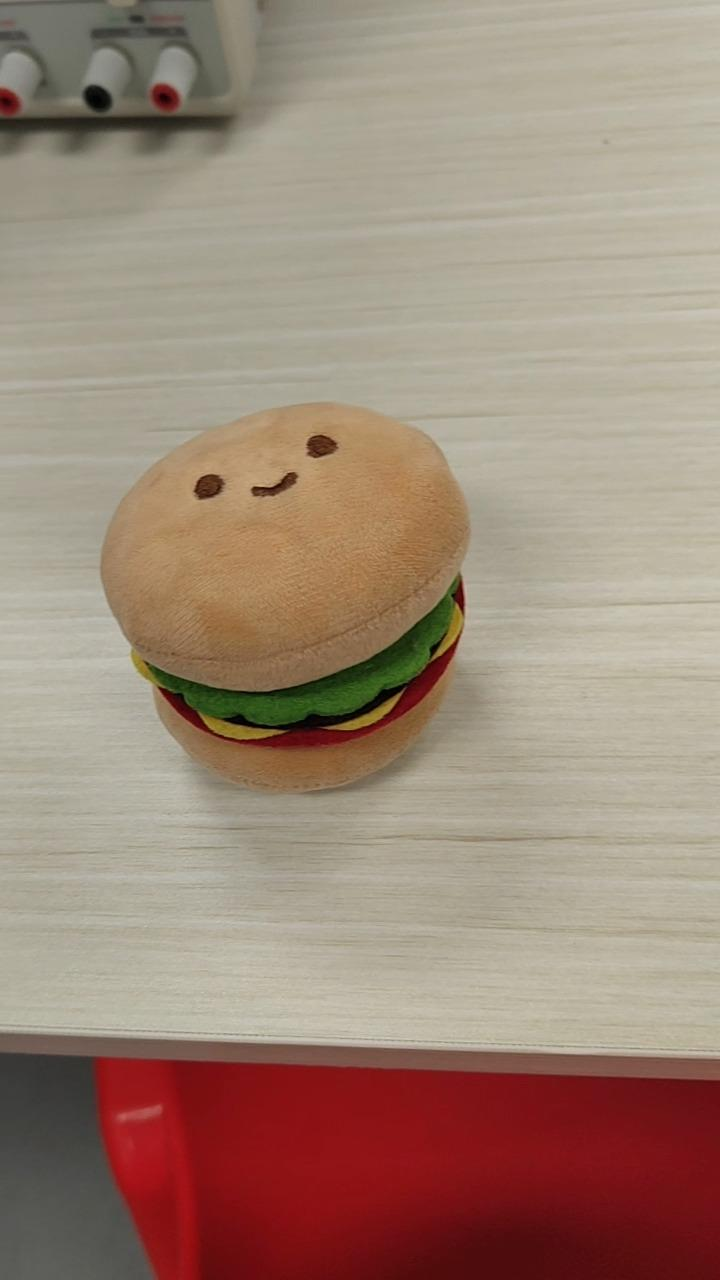hamburger: (98, 399, 471, 795)
